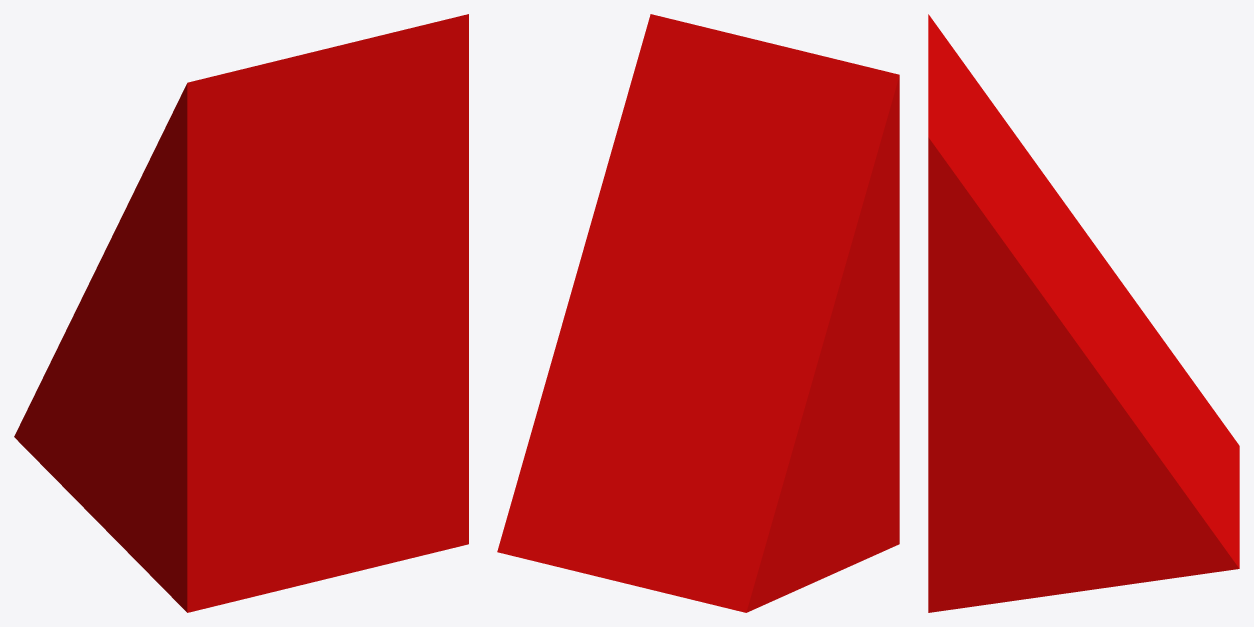
The model's file is hcp-jettison.fbx.
3 renders of one model, left to right at view 1: azimuth 30°, elevation 25°; view 2: azimuth 150°, elevation 25°; view 3: azimuth 270°, elevation 25°, orthographic. The views are drawn at different scales.
Visible parts, largest first — view 1: Group1; view 2: Group1; view 3: Group1.
Part boxes in pixels (x1=…): Group1: x1=14, y1=14, x2=468, y2=612; Group1: x1=497, y1=14, x2=899, y2=612; Group1: x1=928, y1=14, x2=1239, y2=612.
Size of the model in its own units: 1.5 by 2.7 by 1.6.
